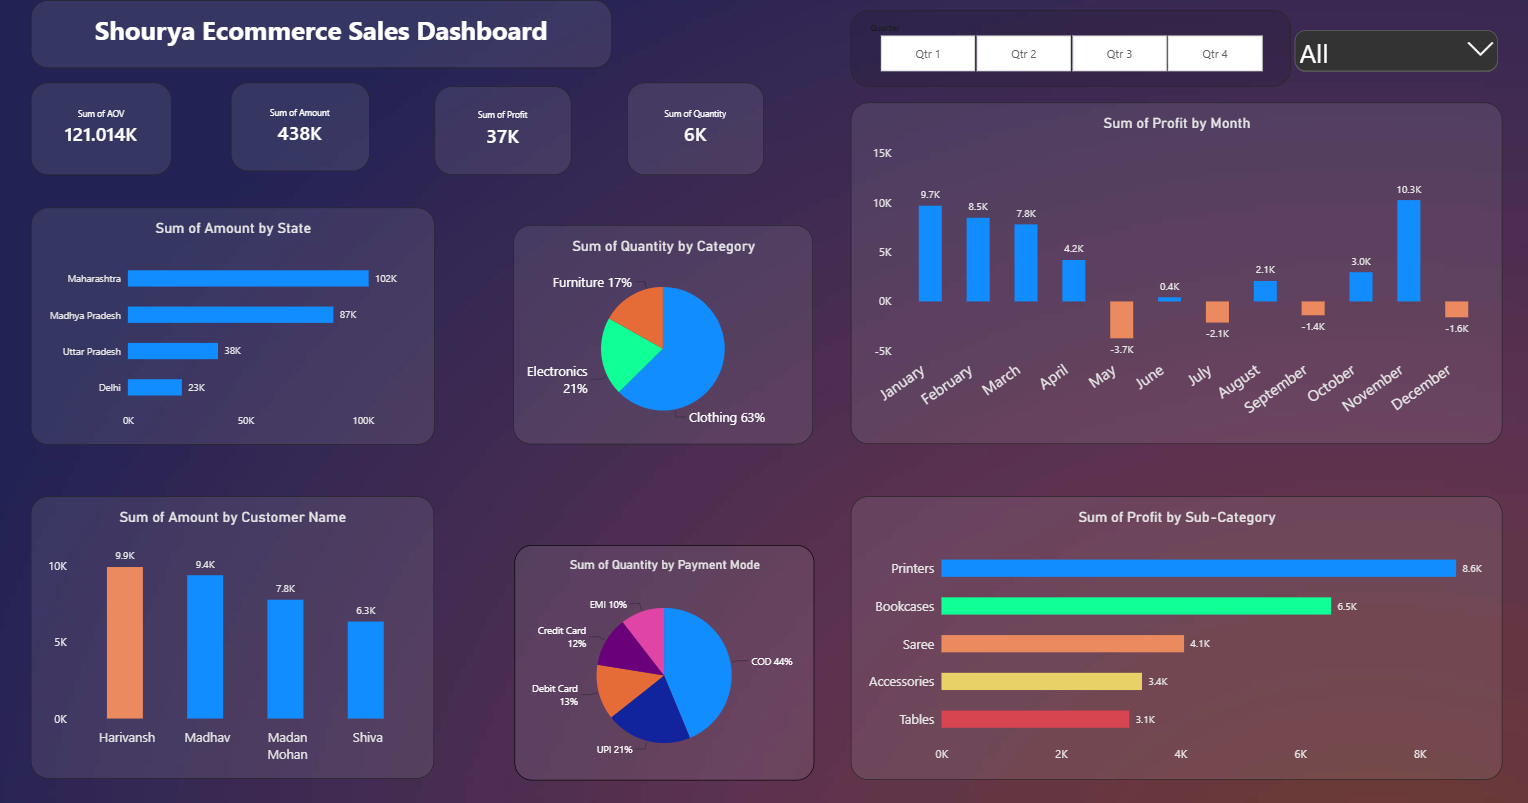

This screenshot's page, from the dashboard's own definition file:
{"tool":"powerbi","page":{"name":"Page 1","canvas":[1920,1080],"ordinal":0},"visuals":[{"type":"textbox","title":"Shourya Ecommerce Sales Dashboard","box":[47.5,37.5,722.5,85],"z":0},{"type":"columnChart","fields":{"Category":["Orders.Order Date.Variation.Date Hierarchy.Month"],"Y":["Sum(Details.Profit)"]},"box":[1067.5,165,810,425],"z":1000},{"type":"barChart","fields":{"Category":["Details.Sub-Category"],"Y":["Sum(Details.Profit)"]},"box":[1067.5,655,810,352.5],"z":2000},{"type":"donutChart","title":"Sum of Quantity by Category ","fields":{"Category":["Details.Category"],"Series":["Details.Category"],"Y":["Sum(Details.Quantity)"]},"box":[647.5,317.5,372.5,272.5],"z":3000},{"type":"donutChart","title":"Sum of Quantity by Payment Mode","fields":{"Category":["Details.PaymentMode"],"Y":["Sum(Details.Quantity)"]},"box":[650,715,372.5,292.5],"z":4000},{"type":"cardVisual","fields":{"Data":["Sum(Details.Amount)"]},"box":[297.5,140,172.5,110],"z":5000},{"type":"cardVisual","fields":{"Data":["Sum(Details.Profit)"]},"box":[550,145,170,110],"z":5001},{"type":"cardVisual","fields":{"Data":["Sum(Details.Quantity)"]},"box":[790,140,170,115],"z":5002},{"type":"cardVisual","fields":{"Data":["Sum(Details.AOV)"]},"box":[47.5,140,175,115],"z":5003},{"type":"barChart","fields":{"Category":["Orders.State"],"Y":["Sum(Details.Amount)"]},"box":[47.5,295,502.5,295],"z":5004},{"type":"columnChart","fields":{"Category":["Orders.Customer Name"],"Y":["Sum(Details.Amount)"]},"box":[47.5,655,501.2,351.2],"z":5005},{"type":"slicer","fields":{"Values":["Orders.Order Date.Variation.Date Hierarchy.Quarter"]},"box":[1067.5,50,547.5,95],"z":5006},{"type":"slicer","fields":{"Values":["Orders.State"]},"box":[1615,70,262.5,105],"z":5007}]}

Visuals, with their boxes on the page's 1920x1080 design canvas (x1, y1, x2, y2). These are canvas units, not pixel positions in the 1528x803 screenshot, which may show the page scaled, cropped or inside an application window:
"Shourya Ecommerce Sales Dashboard" textbox: bbox(48, 38, 770, 122)
columnChart - Orders.Order Date.Variation.Date Hierarchy.Month x Sum(Details.Profit): bbox(1068, 165, 1878, 590)
barChart - Details.Sub-Category x Sum(Details.Profit): bbox(1068, 655, 1878, 1008)
"Sum of Quantity by Category " donutChart: bbox(648, 318, 1020, 590)
"Sum of Quantity by Payment Mode" donutChart: bbox(650, 715, 1022, 1008)
cardVisual - Sum(Details.Amount): bbox(298, 140, 470, 250)
cardVisual - Sum(Details.Profit): bbox(550, 145, 720, 255)
cardVisual - Sum(Details.Quantity): bbox(790, 140, 960, 255)
cardVisual - Sum(Details.AOV): bbox(48, 140, 222, 255)
barChart - Orders.State x Sum(Details.Amount): bbox(48, 295, 550, 590)
columnChart - Orders.Customer Name x Sum(Details.Amount): bbox(48, 655, 549, 1006)
slicer - Orders.Order Date.Variation.Date Hierarchy.Quarter: bbox(1068, 50, 1615, 145)
slicer - Orders.State: bbox(1615, 70, 1878, 175)
